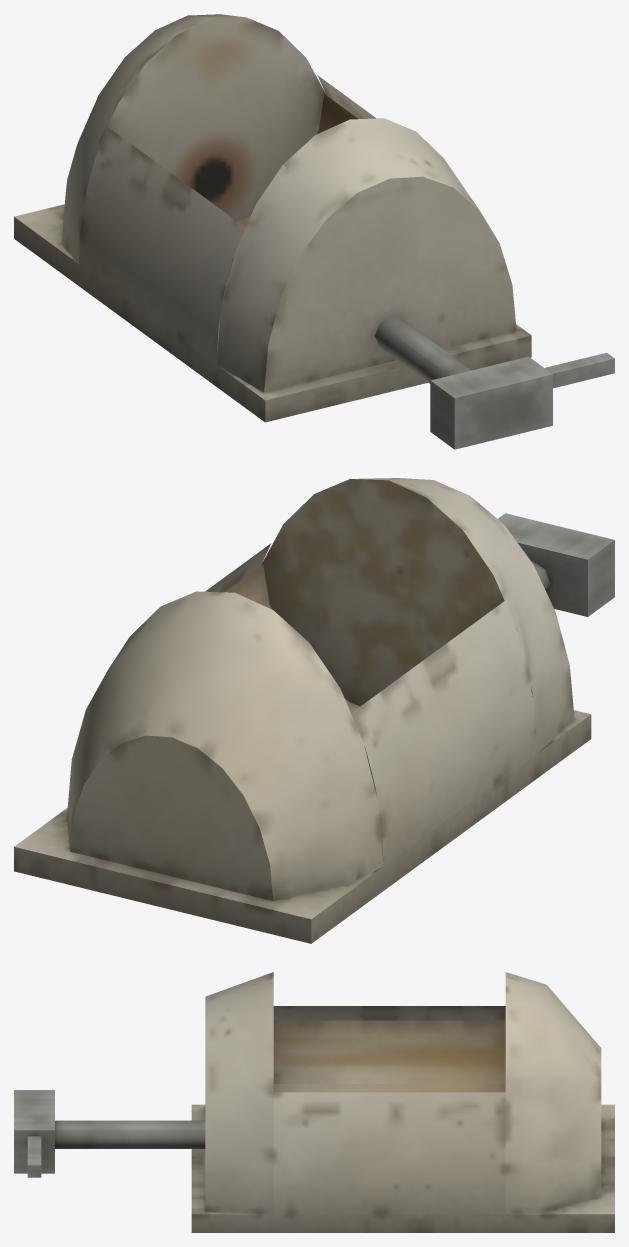
Rendered from urinal.obj.
3 renders of one model, top to bottom at view 1: azimuth 30°, elevation 25°; view 2: azimuth 150°, elevation 25°; view 3: azimuth 270°, elevation 25°, orthographic. The views are drawn at different scales.
Size of the model in its own units: 0.38 by 0.32 by 0.88.
Materials: 1 (1 with a texture image).
